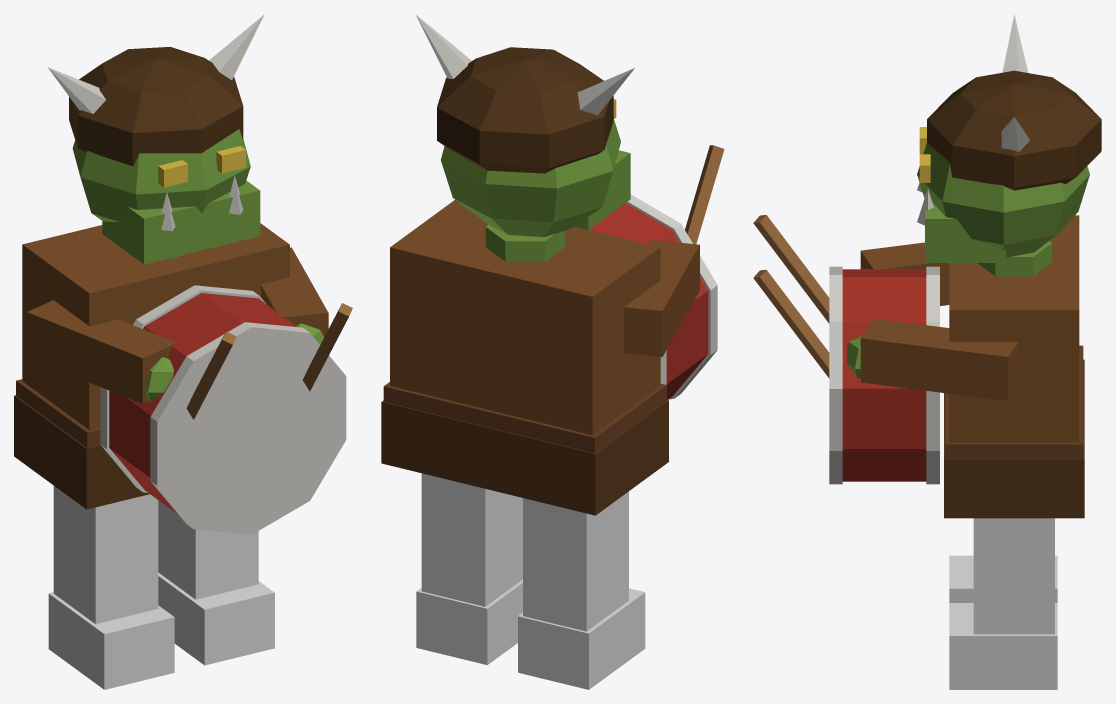
The model's file is e_drummer.fbx.
3 renders of one model, left to right at view 1: azimuth 30°, elevation 25°; view 2: azimuth 150°, elevation 25°; view 3: azimuth 270°, elevation 25°, orthographic. The views are drawn at different scales.
Visible parts, largest first — view 1: e_drummer_Body, e_drummer_LegR, e_drummer_LegL; view 2: e_drummer_Body, e_drummer_LegR, e_drummer_LegL; view 3: e_drummer_Body, e_drummer_LegL, e_drummer_LegR.
Part boxes in pixels (box(x1,y1,x2,y2)): e_drummer_Body: box(14, 14, 352, 534); e_drummer_LegR: box(48, 486, 174, 689); e_drummer_LegL: box(158, 500, 274, 665); e_drummer_Body: box(381, 14, 724, 515); e_drummer_LegR: box(518, 491, 645, 689); e_drummer_LegL: box(416, 473, 522, 665); e_drummer_Body: box(753, 15, 1101, 518); e_drummer_LegL: box(949, 518, 1057, 689); e_drummer_LegR: box(949, 555, 1057, 602).
Bounding box in the file's own units: 0.5472 × 1.19 × 0.6446.
